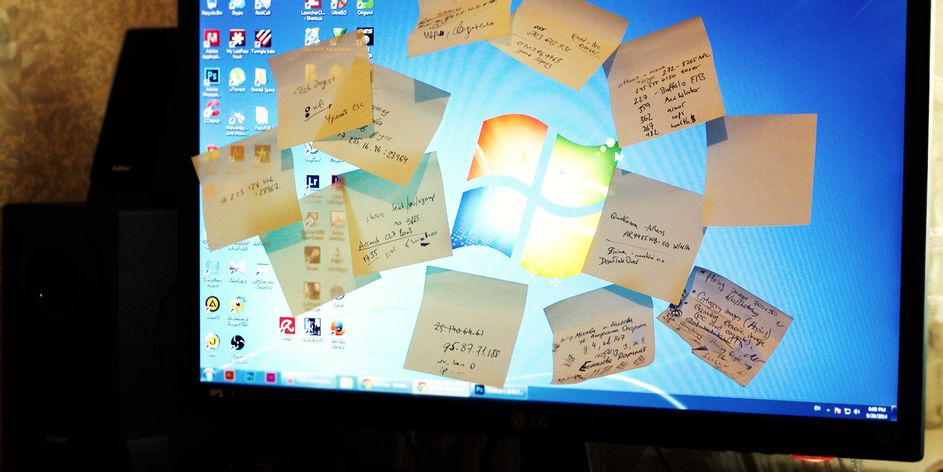Note: (252, 185, 382, 318), (316, 61, 449, 189), (584, 173, 710, 305), (607, 18, 730, 146), (404, 266, 530, 388), (334, 159, 460, 278), (662, 268, 790, 384), (185, 132, 299, 248), (538, 283, 662, 383), (494, 3, 633, 89), (267, 41, 376, 142), (404, 1, 513, 56)
